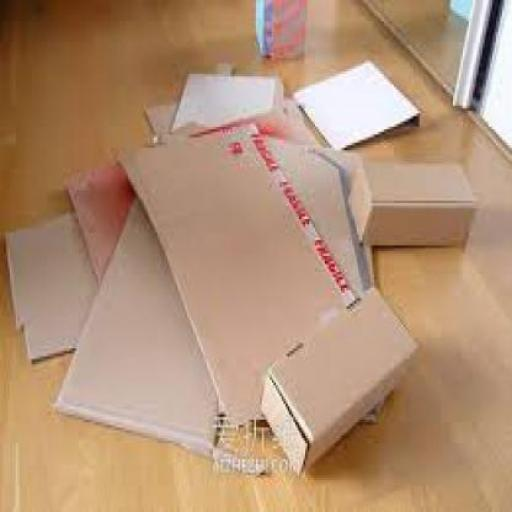cardboard: (48, 128, 368, 464), (112, 121, 357, 428), (258, 280, 418, 472), (2, 211, 99, 359), (291, 56, 418, 150), (344, 156, 472, 246), (61, 153, 136, 288), (173, 68, 282, 138), (254, 0, 305, 58), (140, 100, 173, 145)
